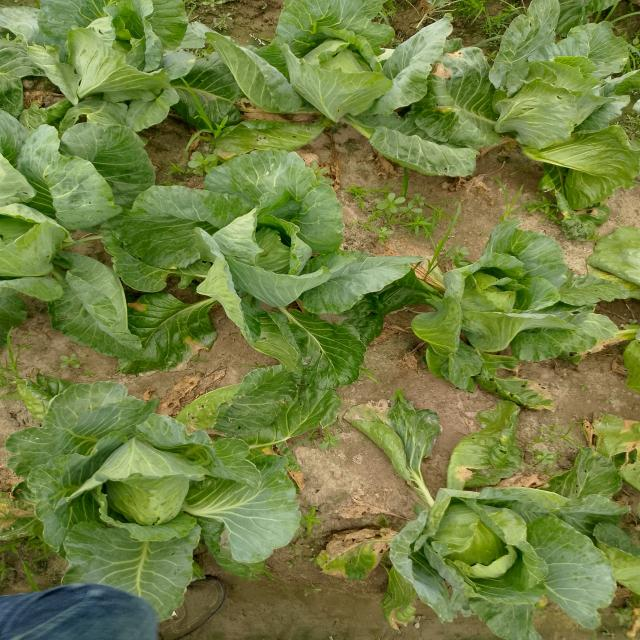Cabbage: (23, 365, 315, 640), (364, 414, 640, 640), (160, 154, 414, 364), (431, 12, 631, 220), (0, 101, 158, 343), (425, 250, 640, 420), (200, 0, 408, 151), (0, 0, 192, 124)
